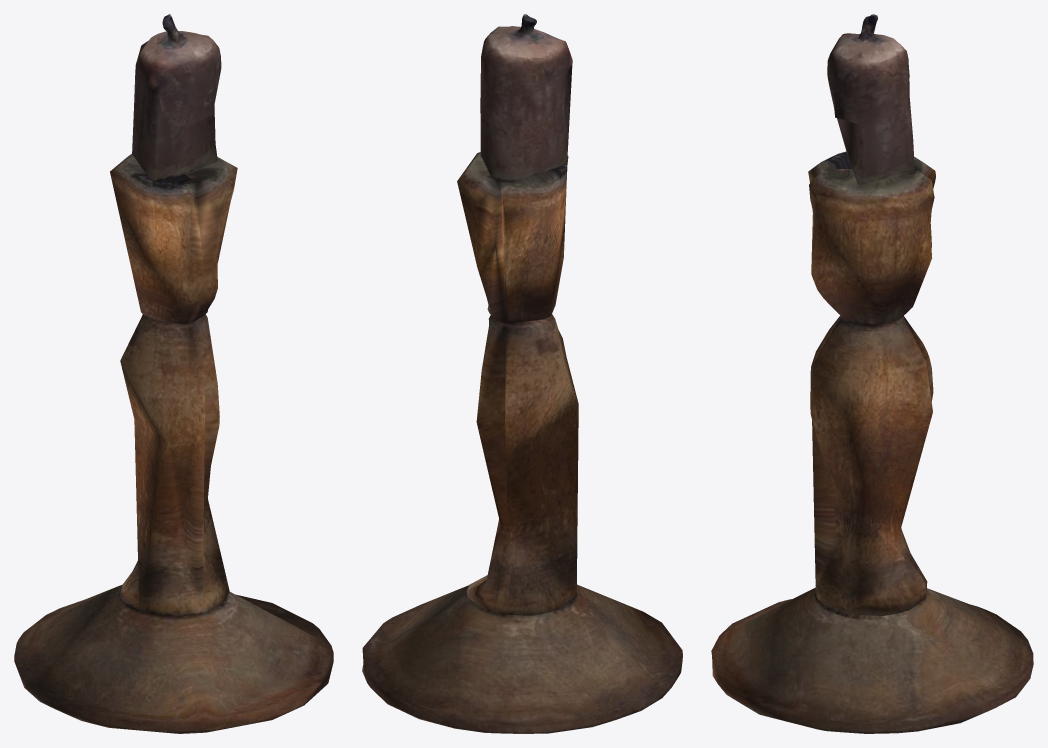
Rendered from wooden_candlestick.glb.
3 views of the same model, side by side, from view 1: azimuth 30°, elevation 25°; view 2: azimuth 150°, elevation 25°; view 3: azimuth 270°, elevation 25° (orthographic).
Visible parts, largest first — view 1: wooden_candlestick; view 2: wooden_candlestick; view 3: wooden_candlestick.
Part boxes in pixels (x1,y1,x2,y2): wooden_candlestick: (14,14,333,733); wooden_candlestick: (362,14,682,733); wooden_candlestick: (711,14,1033,733).
Bounding box in the file's own units: 0.0971 × 0.2196 × 0.0984.
1 material, 1 textured.
